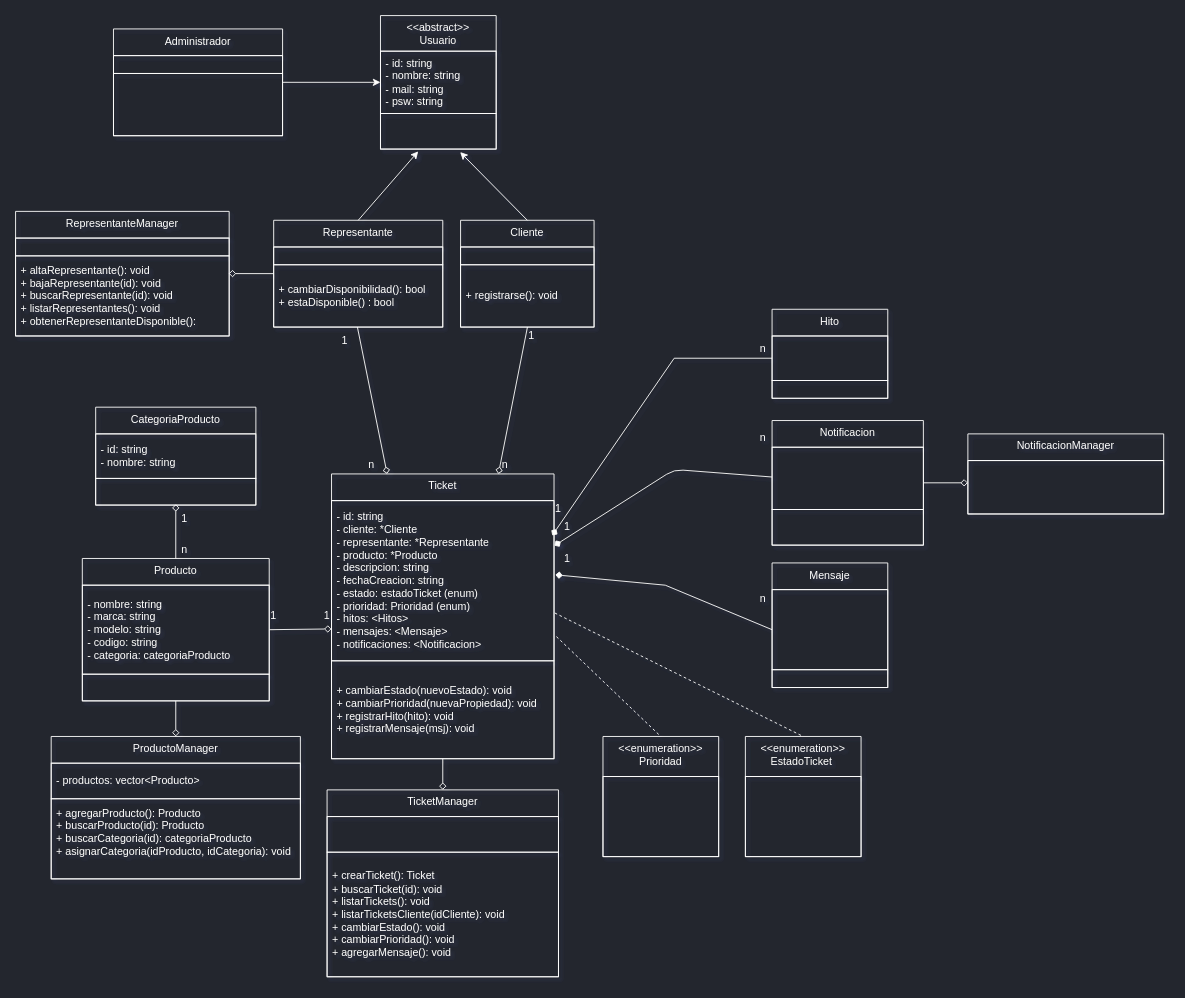
Image size: 1185x998. Some labels were removed from this diagram. The shapes that lost their labels are listed below. From the top down, each one's centre as x and y in pixels, then its label:
pixel 198 104: + asignarRepresentante(): void
pixel 438 131: + iniciarSesion(): bool + cerrarSesion(): void
pixel 122 246: - representantes : vector<Representante>
pixel 358 255: - disponible: bool
pixel 829 357: - id: string - fecha: string - descripcion: string
pixel 175 491: + asignarProducto(): void
pixel 847 478: - id: string - fecha: string - descripcion: string - leida: bool
pixel 1065 487: + crearNotificacion() + enviarNotificacion(usuario) + marcarComoLeida()
pixel 847 527: + marcarComoLeida(): void
pixel 829 629: - id: string - fecha: string - remitente: *Usuario - contenido: string
pixel 175 687: + asignarCategoria(categoria) : void
pixel 442 834: - tickets: vector<Ticket> - notificaci onManager: NotificacionManager
pixel 660 816: Baja Media Alta Urgente
pixel 802 816: Abierto EnProceso Resuelto Cerrado
